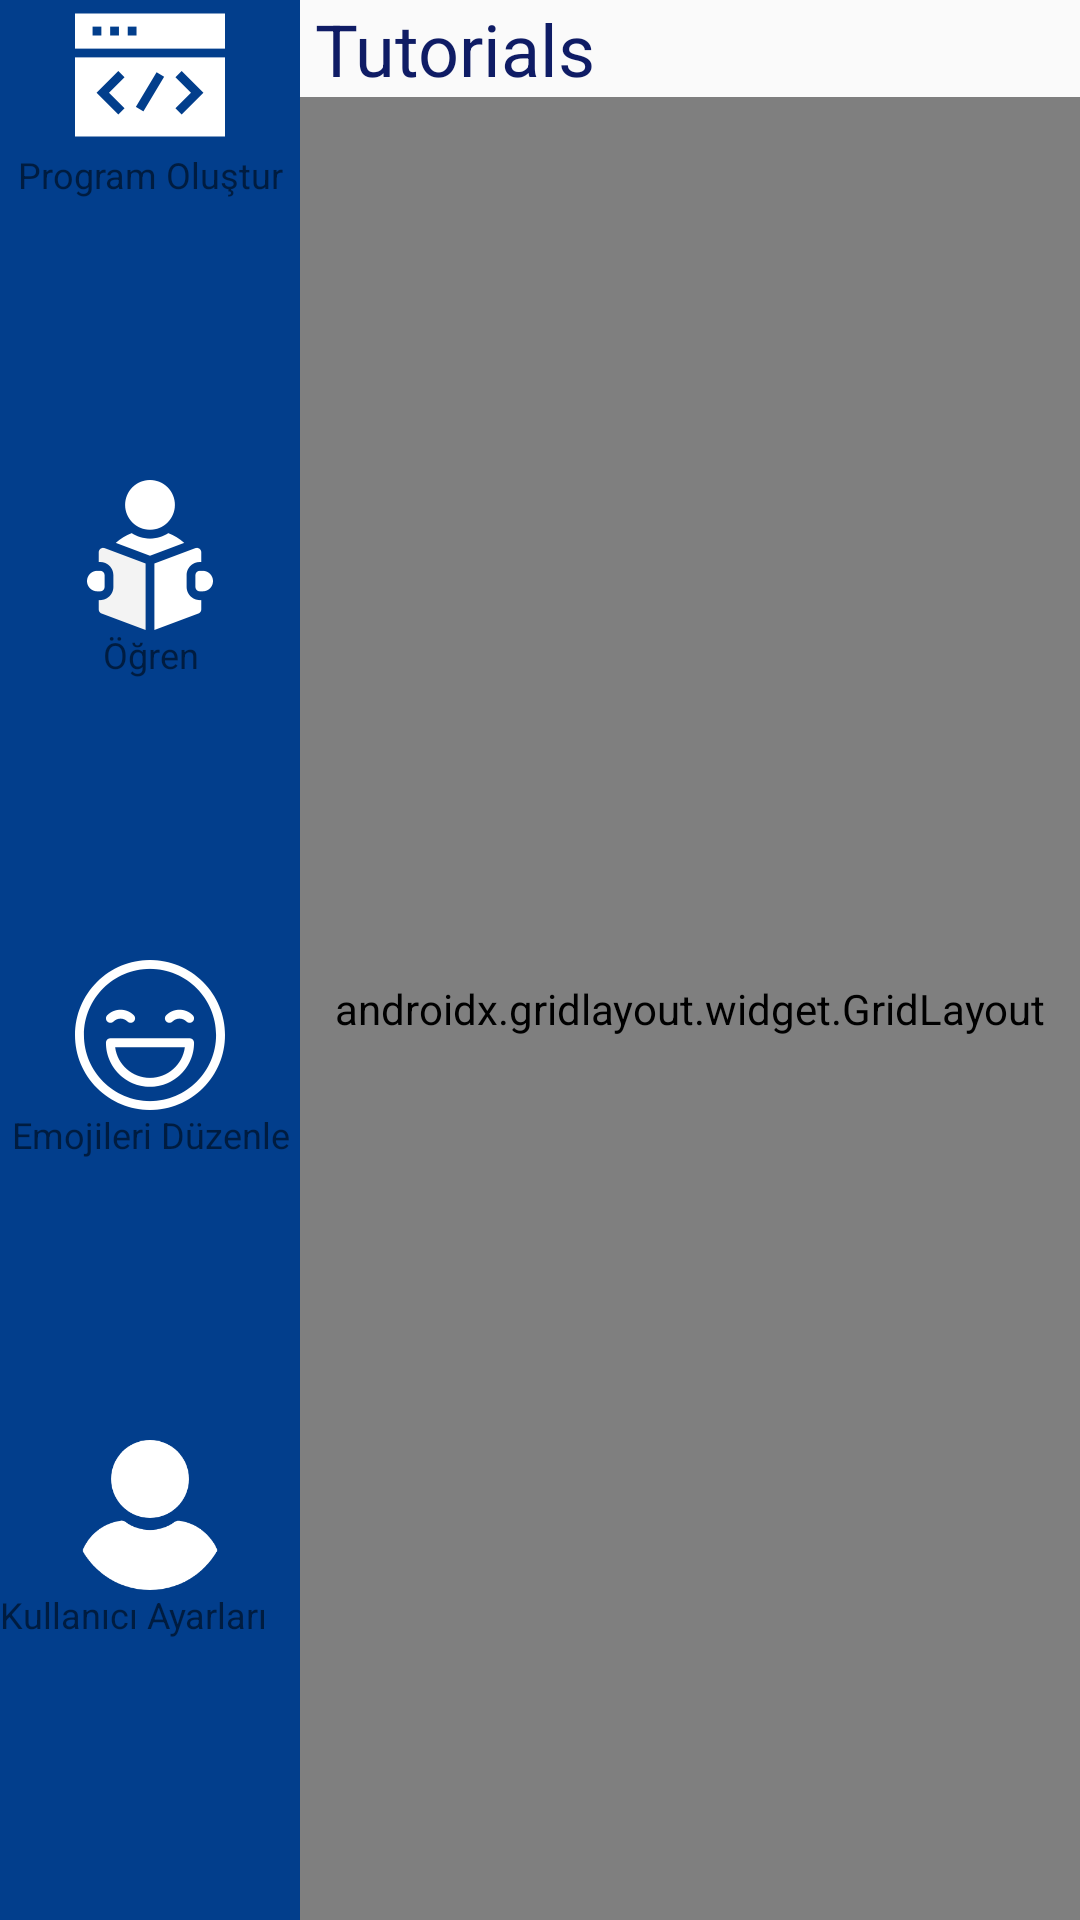

Screen size 1080px×1920px. Icon name, then its box in pixels as (x1, y1, x2, y2):
coding: (75, 13, 225, 137)
happy: (75, 960, 225, 1110)
